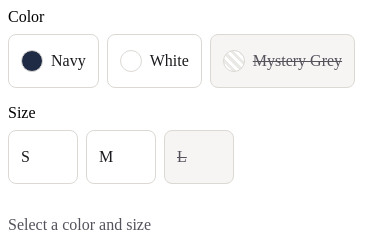
Test case: ProductVariantOptions › shows the selected color in the legend and the availability of the exact combination
This screenshot has width=372, height=250.
Click the radio button labelled "Navy".
click(53, 61)  # box [8, 34, 99, 88]
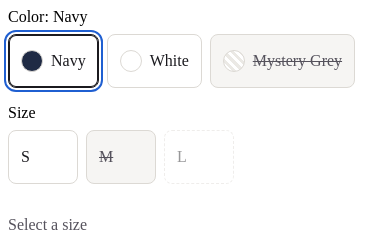
Expected: the element "Color: Navy" is shown, [8, 8, 355, 88]
Expected: the message reads "Select a size", [8, 216, 87, 233]
Click the radio button labelled "S".
click(43, 157)  # box [8, 130, 78, 184]
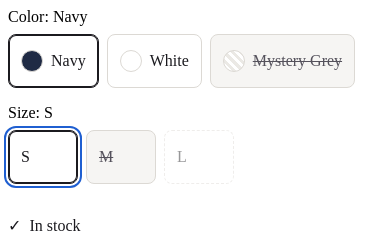
Expected: the message shows "In stock", [29, 216, 80, 234]
Click the radio button named "M (out of stock)".
click(121, 157)  # box [86, 130, 156, 184]
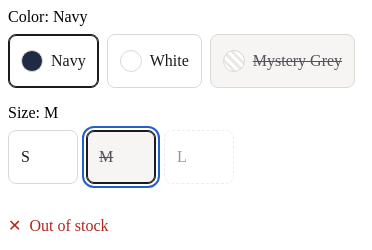
Expected: the radio button named "M (out of stock)" is checked, [86, 130, 156, 184]
Expected: the message shows "Out of stock", [29, 216, 108, 234]
